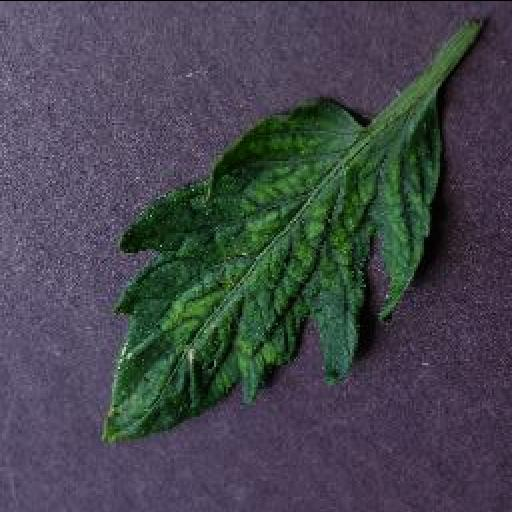disease_tomato: (95, 92, 441, 446)
